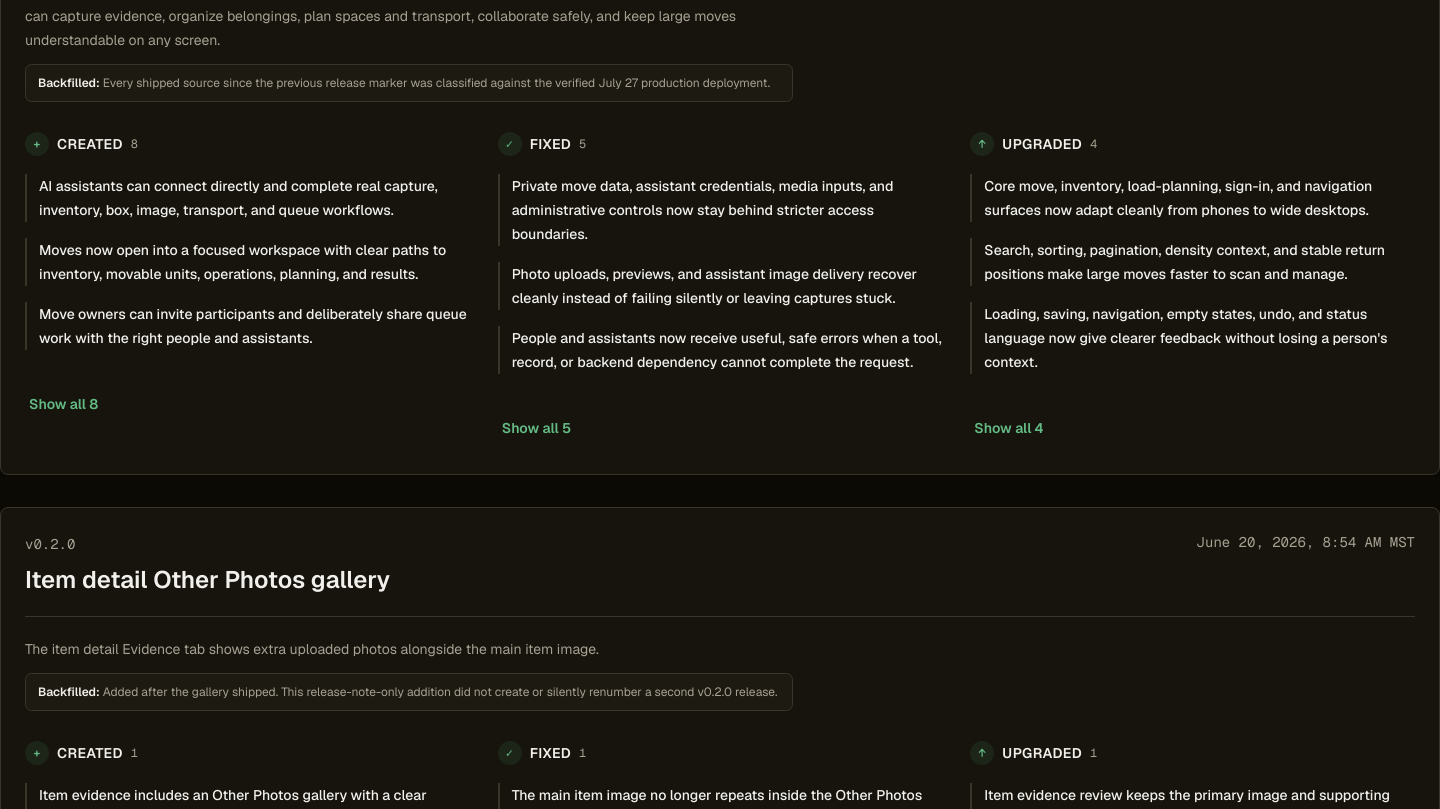
UpdatesReleaseList › expands categories independently and preserves the reading mode
(page scrolled)
Click the button with aria-label "Show all 8 Created changes in v0.3.0". click: (64, 404)
box: [25,382,102,426]
(page scrolled)
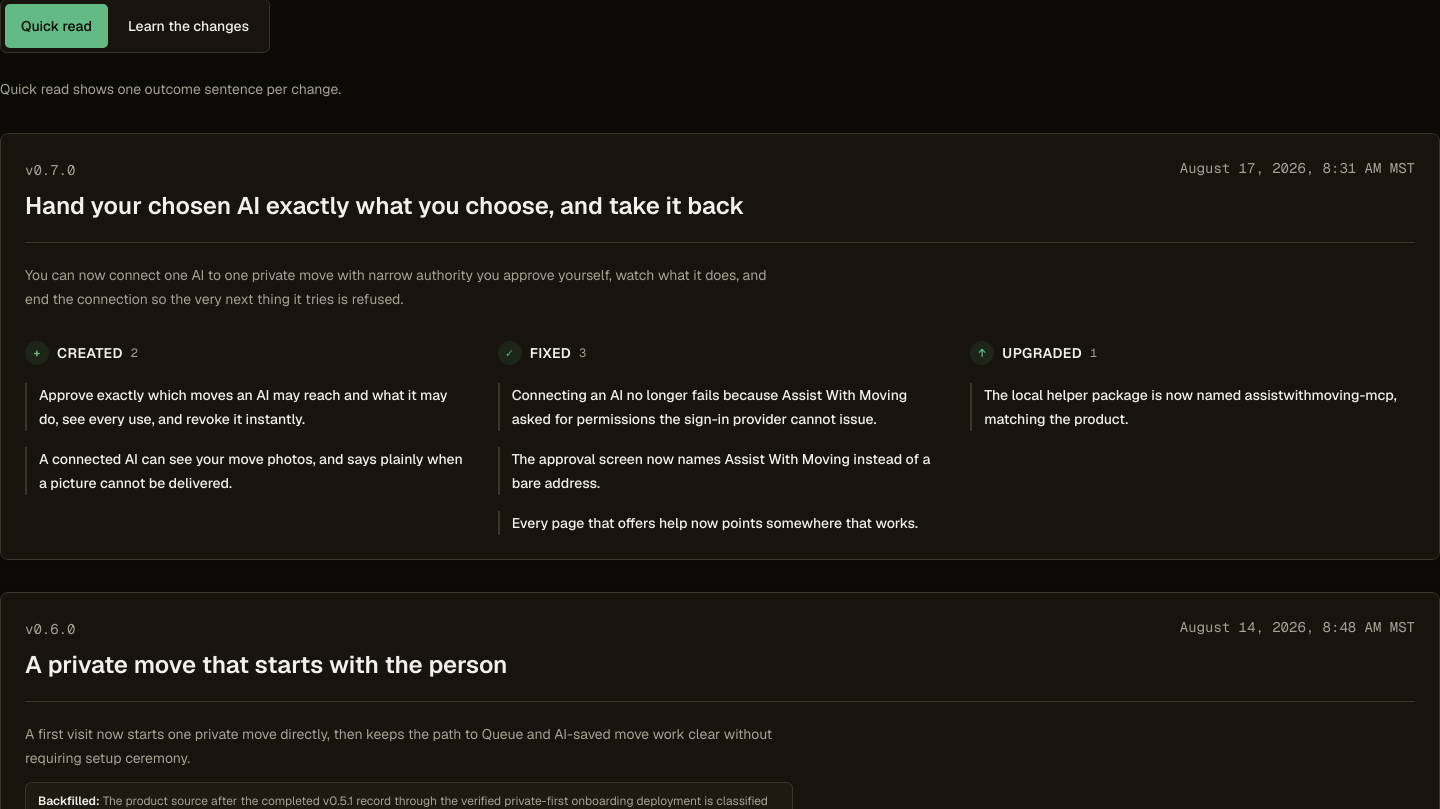
Click the button "Learn the changes". click: (188, 26)
box: [112,4,265,48]
(page scrolled)
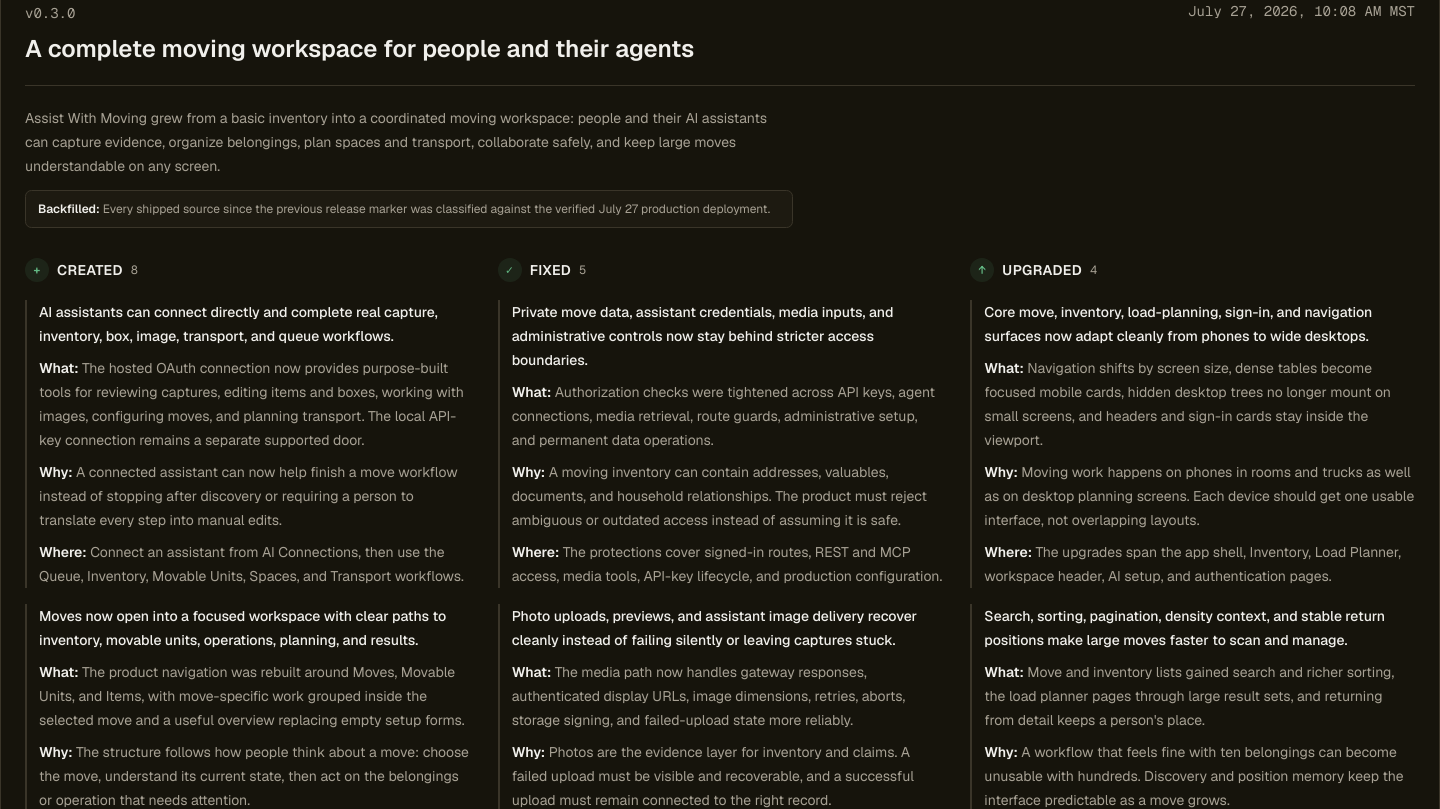
Check: the text "The hosted OAuth connection now provides purpose-built tools" is shown, box [39,359,464,449]
